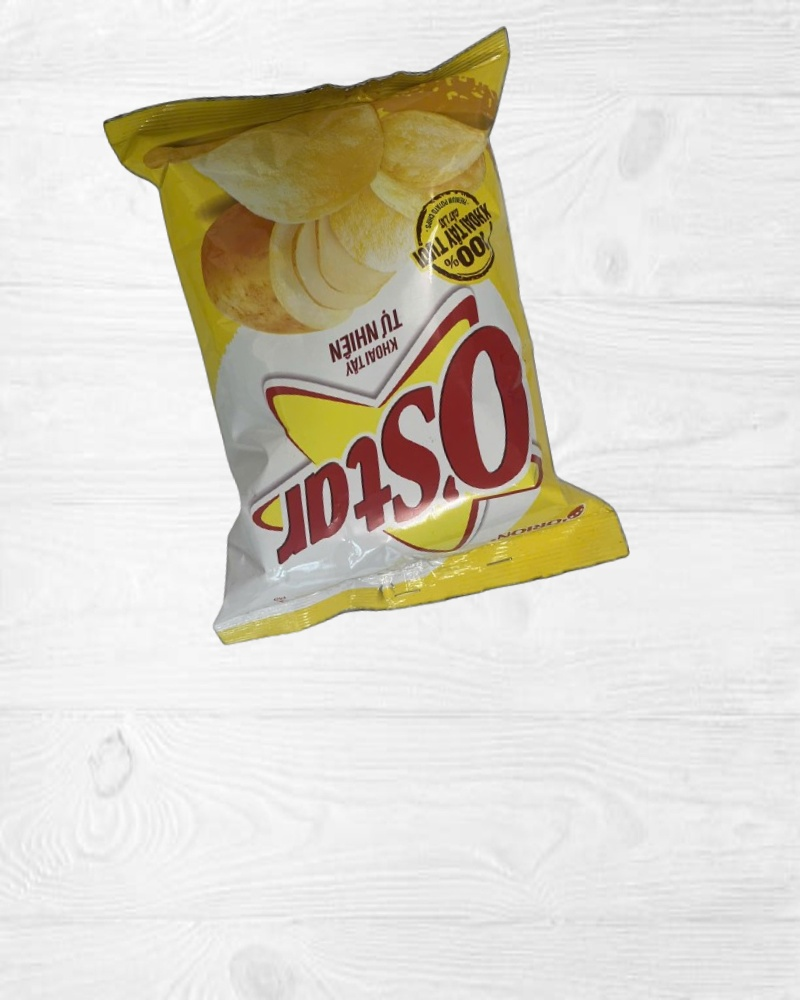Snack cua: (106, 28, 630, 643)
